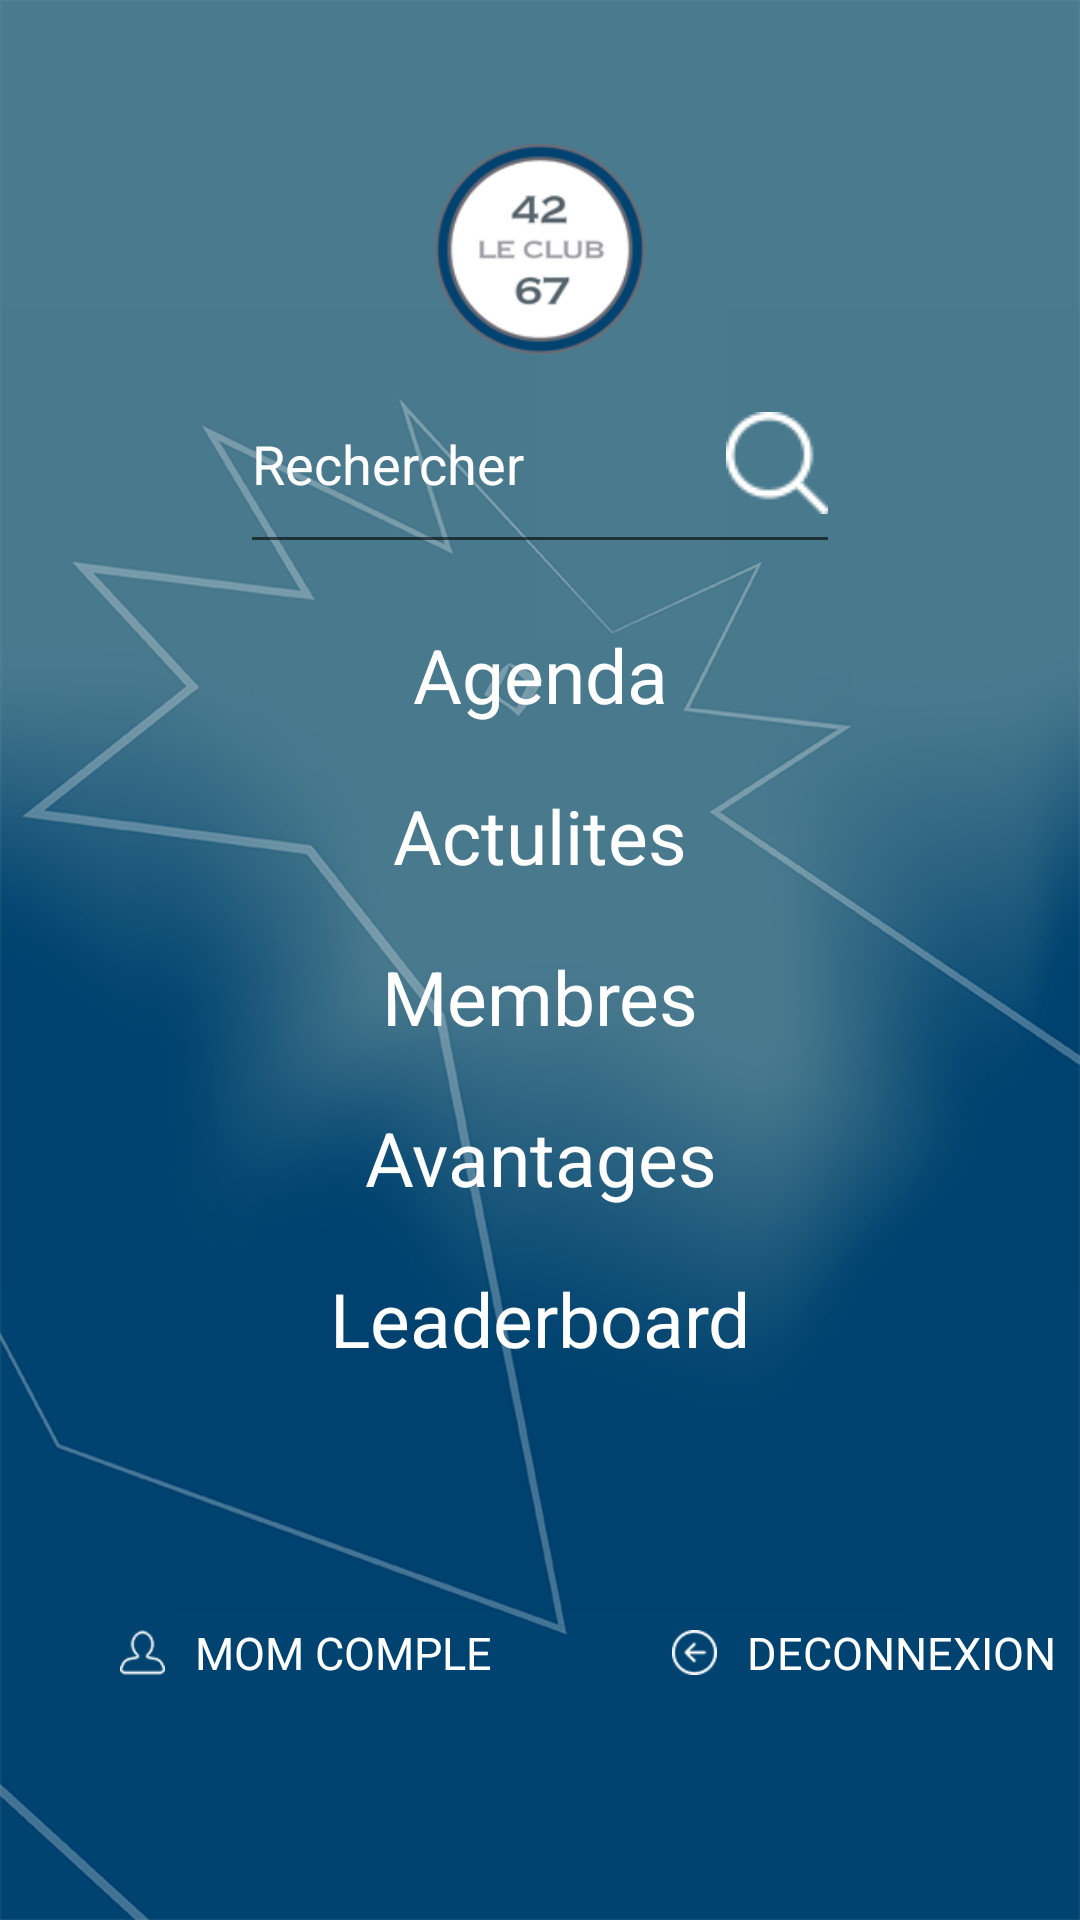

Where icons sit on this 1080 x 1920 app screen, as (x1, y1, x2, y2):
back: (672, 1630, 717, 1675)
user: (120, 1630, 165, 1675)
